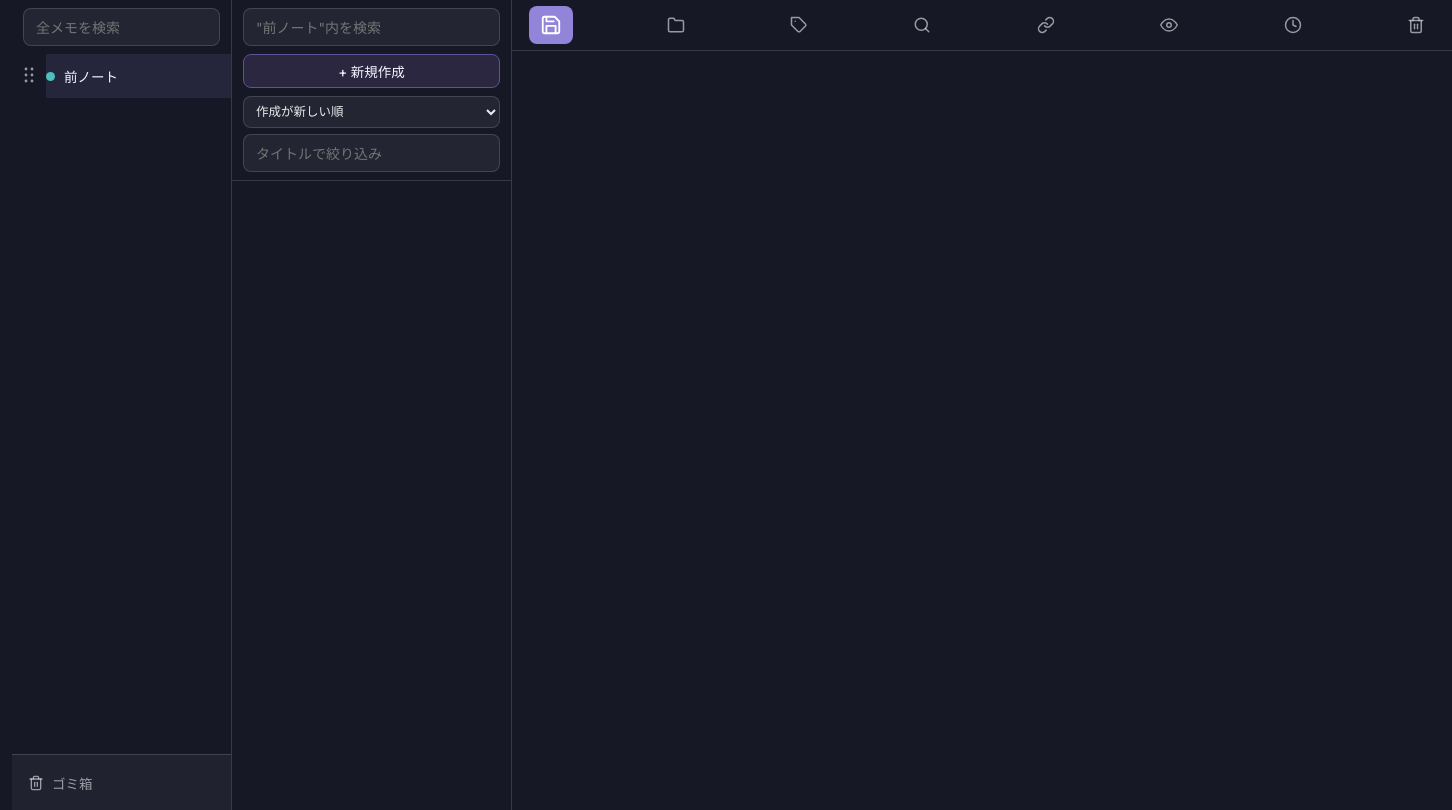
Test: folder management › creates a folder and pushes folders.json to GitHub
This screenshot has width=1452, height=810.
Press the mouse on the element with test id "swipe-container" at (732, 405), box 12,0 -> 1451,809
Press the mouse on the element with test id "swipe-container" at (732, 405), box 12,0 -> 1451,809
(page scrolled)
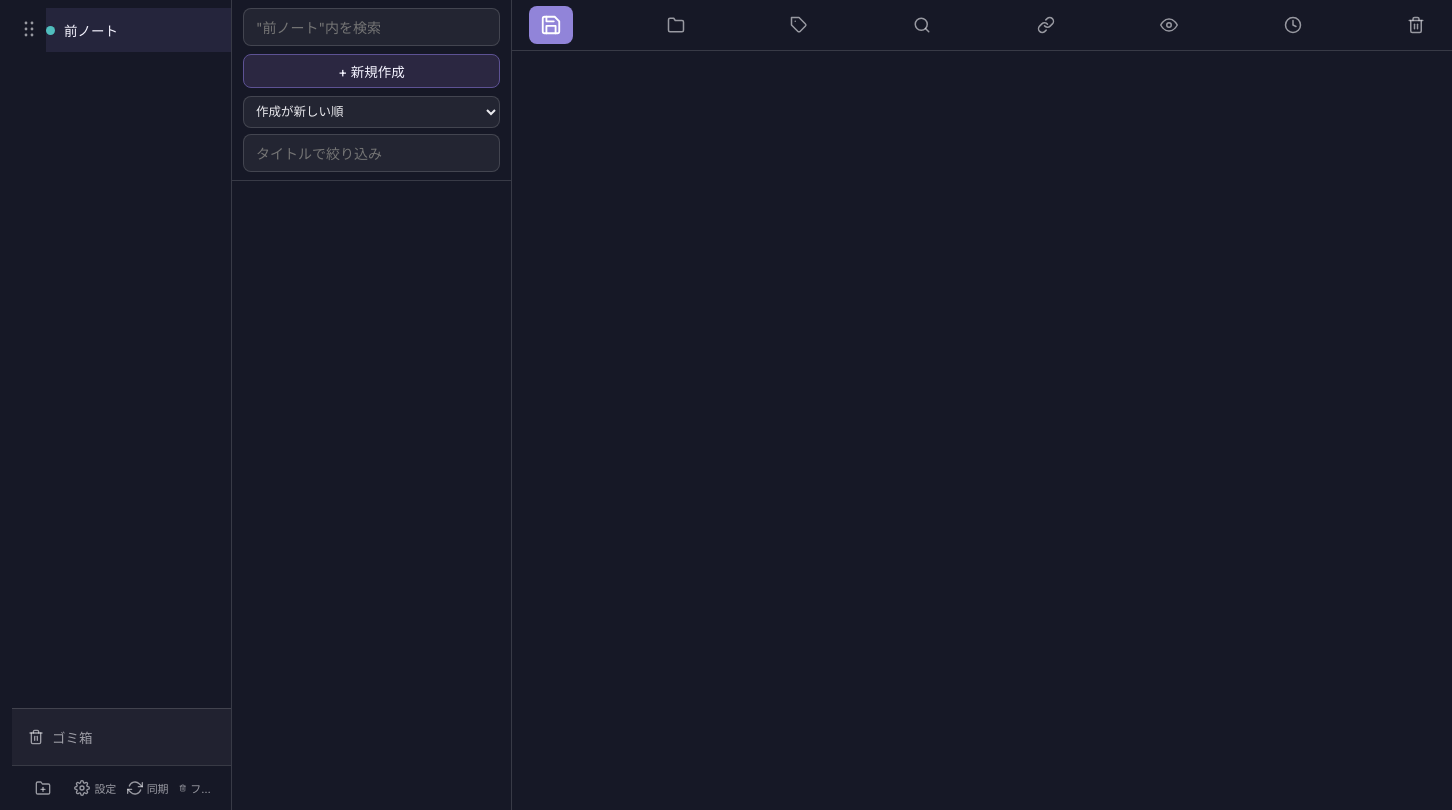
Click the button named "新しいフォルダを追加". click: click(43, 788)
box: 18,772 -> 68,804
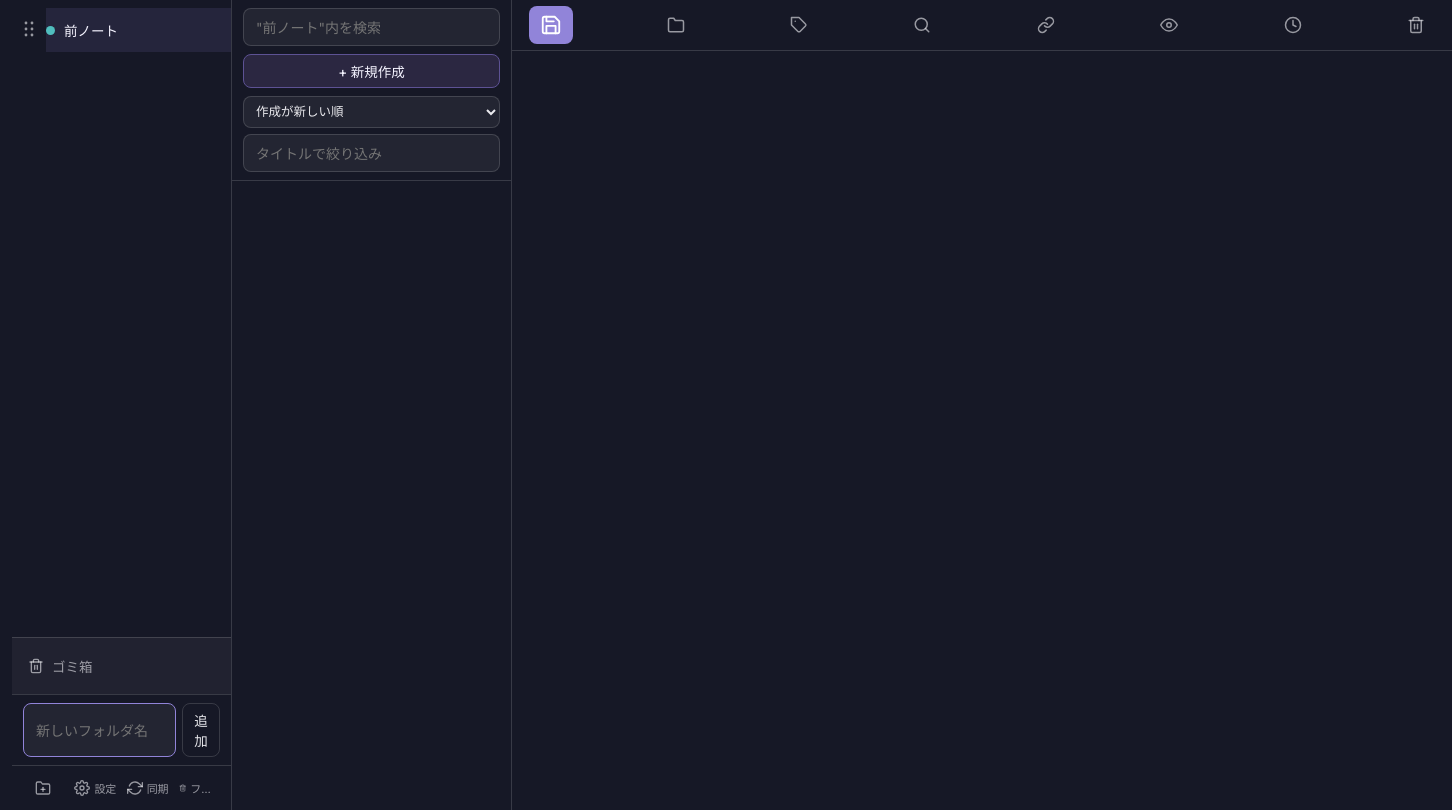
Expected: the field labelled "新しいフォルダ名" is shown
Type "趣味" into the field labelled "新しいフォルダ名". click: (100, 730)
box: 23,703 -> 176,757
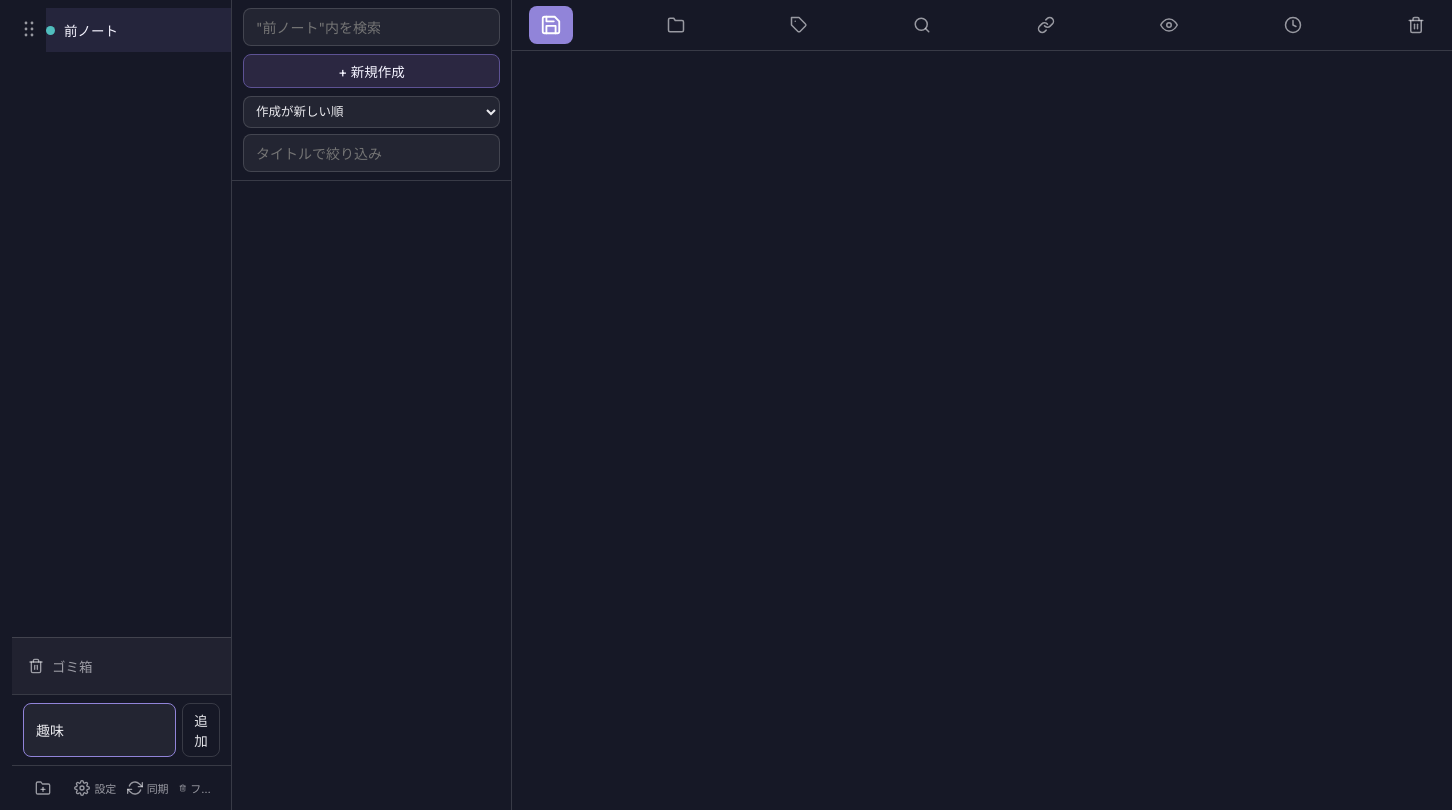
Click the button "追加". click: click(201, 730)
box: 182,703 -> 220,757
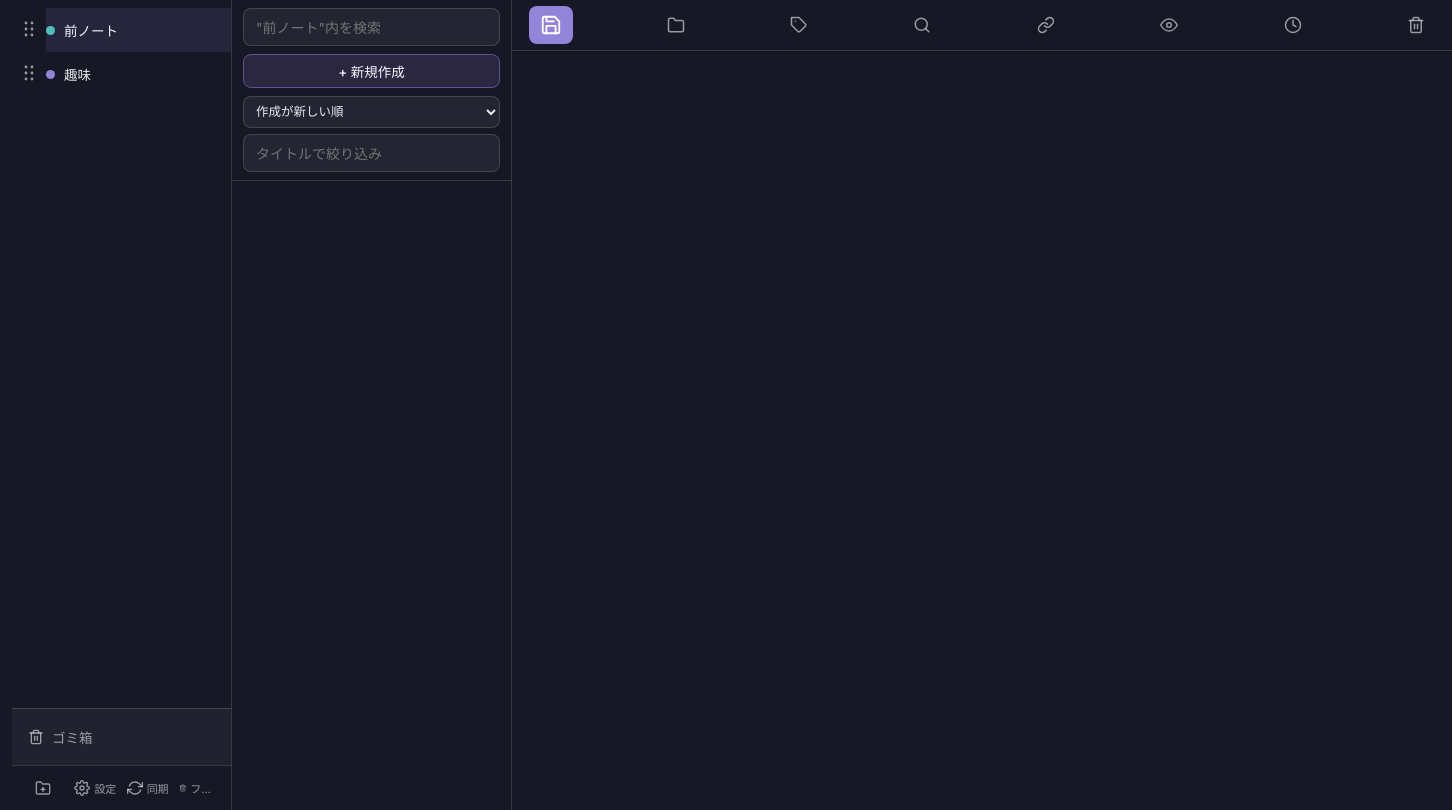
Expected: the button "趣味" is shown, 46,52 -> 231,96
